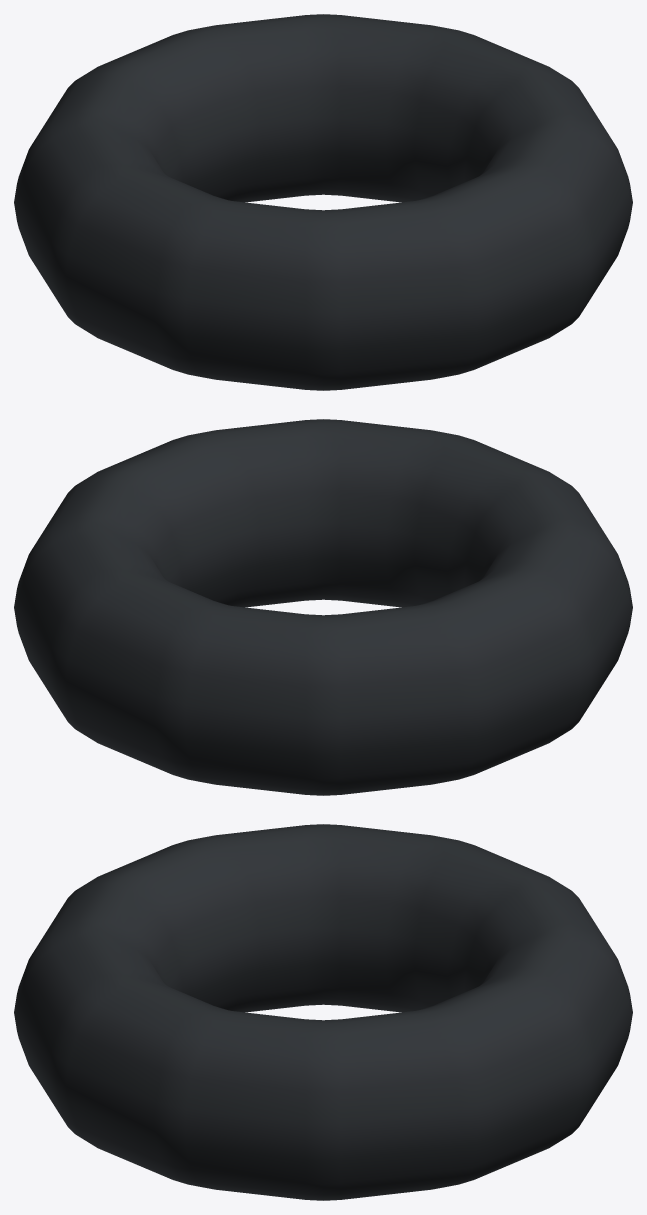
The model's file is tekerlastik.fbx.
3 renders of one model, top to bottom at view 1: azimuth 30°, elevation 25°; view 2: azimuth 150°, elevation 25°; view 3: azimuth 270°, elevation 25°, orthographic.
Parts seen in each view (by area): view 1: land_07.109; view 2: land_07.109; view 3: land_07.109.
Boxes of the visible parts, x1,y1,x2,y2 form: land_07.109: (14, 14, 632, 390); land_07.109: (14, 419, 632, 795); land_07.109: (14, 824, 632, 1200).
Bounding box in the file's own units: 244 × 75.08 × 244.
